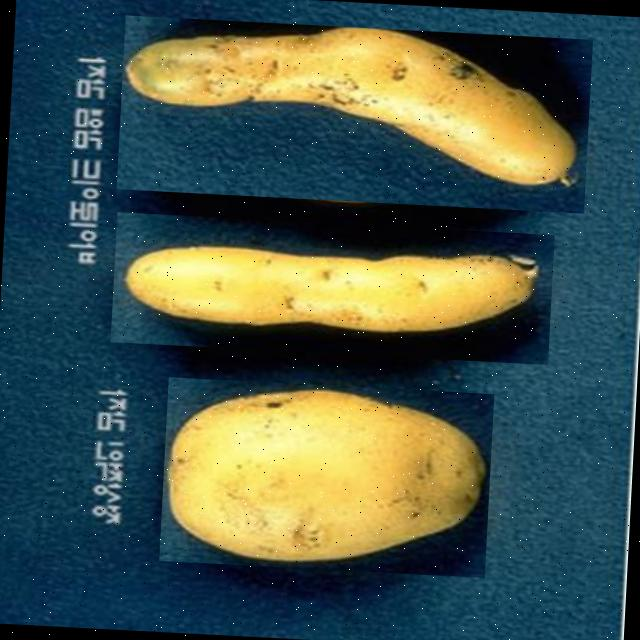Damaged potato: (117, 14, 593, 212), (110, 211, 554, 364)
Potato: (160, 376, 494, 577)
